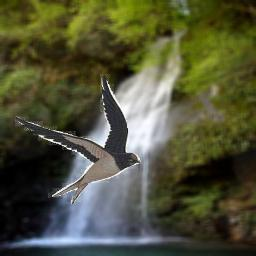Swallow: (15, 74, 142, 204)
